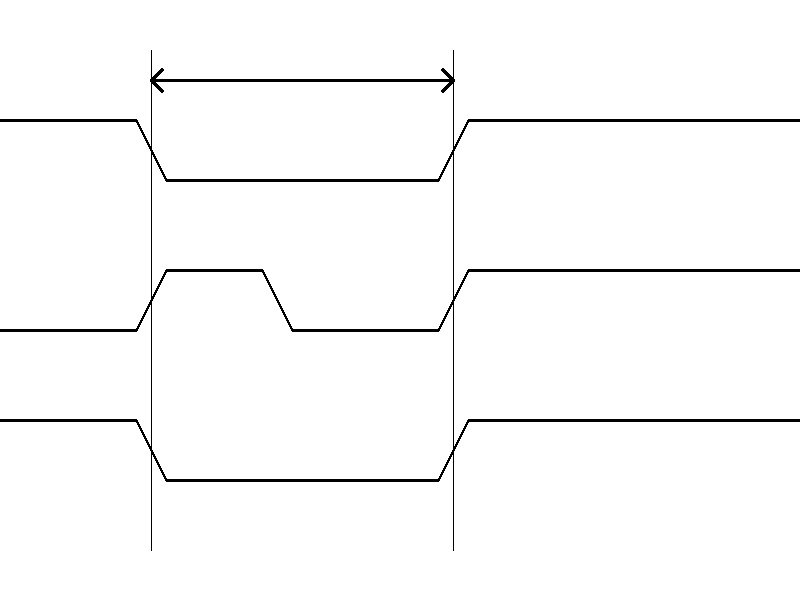double_arrow: (151, 65, 453, 95)
